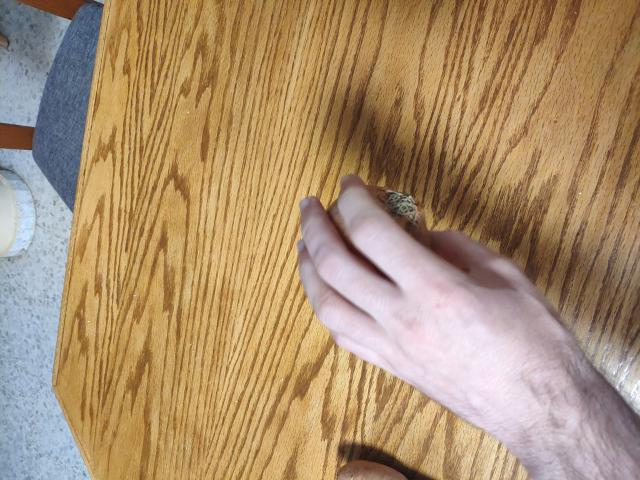onion: (319, 184, 425, 291)
